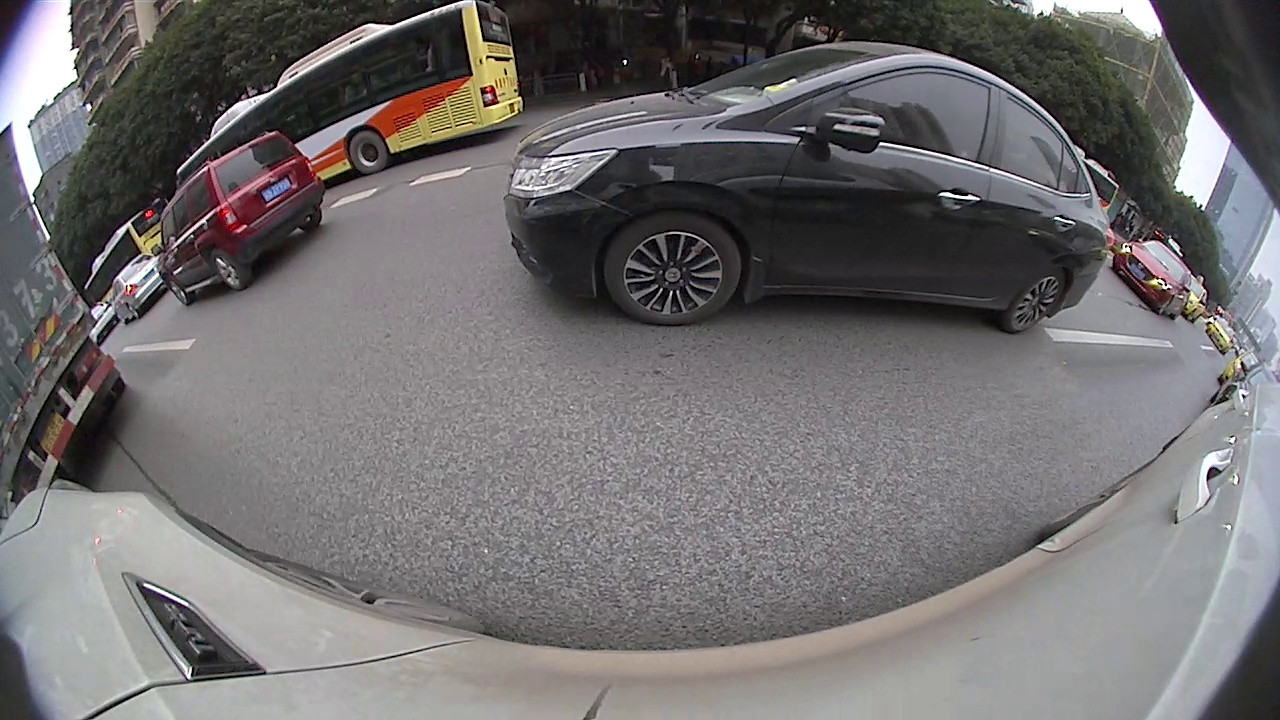bus: (172, 4, 526, 183), (88, 198, 164, 307)
car: (503, 40, 1109, 333), (157, 132, 328, 307), (1116, 227, 1189, 319), (110, 253, 167, 320), (1216, 370, 1278, 406), (1210, 312, 1241, 354), (1190, 276, 1208, 322)
front: (605, 214, 741, 327), (164, 274, 193, 307)
rear: (999, 266, 1074, 333), (206, 248, 253, 293), (348, 126, 389, 173)
truck: (0, 127, 128, 489)
